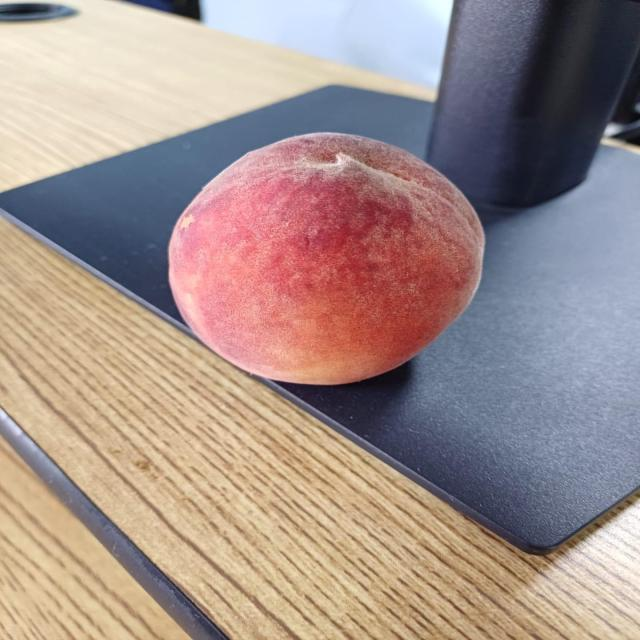Persik: (156, 115, 499, 402)
